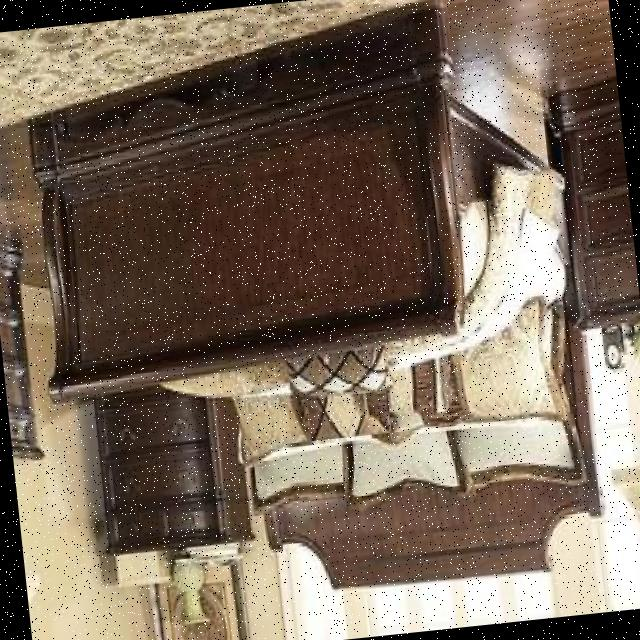Bed: (12, 0, 613, 627)
